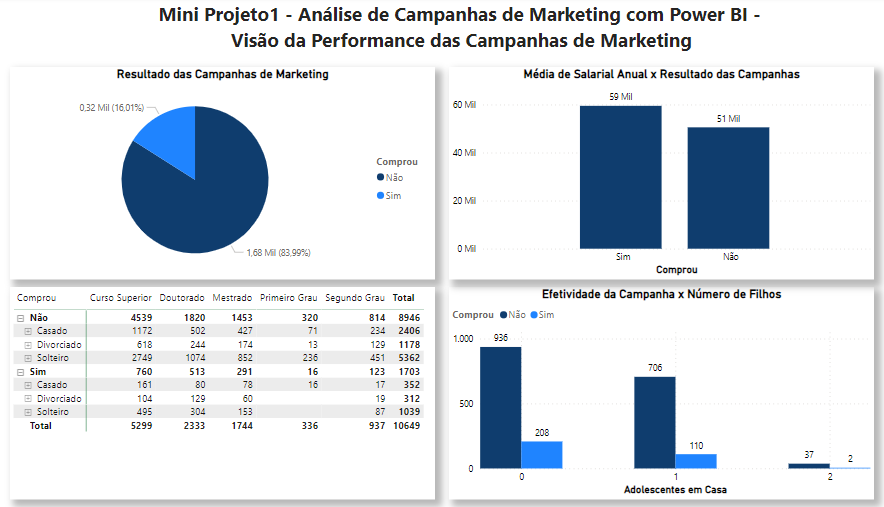

What the dashboard file says about the page in this screenshot:
{"tool":"powerbi","page":{"name":"Visão Campanhas","canvas":[1280,720],"ordinal":2},"visuals":[{"type":"pieChart","title":"Resultado das Campanhas de Marketing","fields":{"Category":["DadosMarketing.Comprou"],"Y":["CountNonNull(DadosMarketing.ID)"]},"box":[20.2,99.4,600.5,299.5],"z":0},{"type":"pivotTable","title":"Total de Gastos X Filhos em Casa","fields":{"Rows":["DadosMarketing.Comprou","DadosMarketing.Estado Civil","DadosMarketing.Pais"],"Values":["Sum(DadosMarketing.Numero Visitas WebSite Mes)"],"Columns":["DadosMarketing.Escolaridade"]},"box":[20.2,409,600.5,299.5],"z":1000},{"type":"clusteredColumnChart","title":"Efetividade da Campanha x Número de Filhos","fields":{"Series":["DadosMarketing.Comprou"],"Category":["DadosMarketing.Filhos em Casa"],"Y":["CountNonNull(DadosMarketing.Filhos em Casa)"]},"box":[639.4,409,600.5,299.5],"z":2000},{"type":"clusteredColumnChart","title":"Média de Salarial Anual x Resultado das Campanhas","fields":{"Category":["DadosMarketing.Comprou"],"Y":["Avg(DadosMarketing.Salario Anual)"]},"box":[639.4,99.4,600.5,299.5],"z":3000},{"type":"textbox","box":[224.3,0,865.1,84.3],"z":4000}]}

Visuals, with their boxes in screenshot pixels (x1, y1, x2, y2), scaled from the page's 1280x720 canvas onto the 884x507 screenshot:
"Resultado das Campanhas de Marketing" pieChart: <box>14,70,429,281</box>
"Total de Gastos X Filhos em Casa" pivotTable: <box>14,288,429,499</box>
"Efetividade da Campanha x Número de Filhos" clusteredColumnChart: <box>442,288,856,499</box>
"Média de Salarial Anual x Resultado das Campanhas" clusteredColumnChart: <box>442,70,856,281</box>
textbox: <box>155,0,752,59</box>
